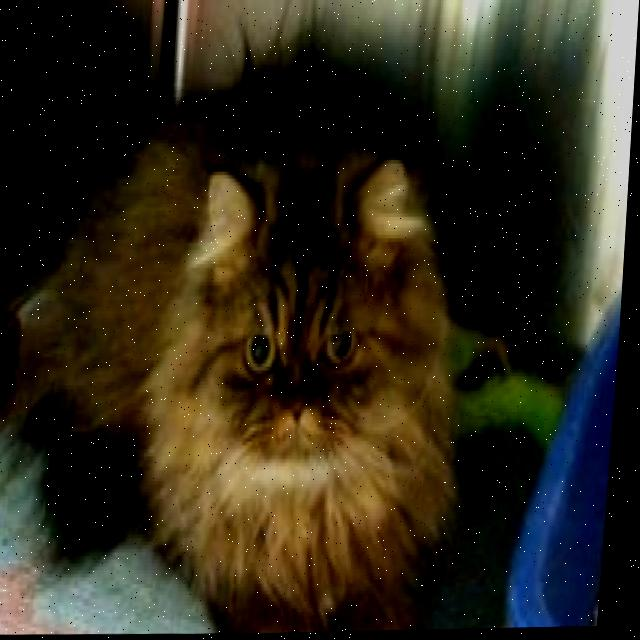Persian: (0, 20, 493, 640)
